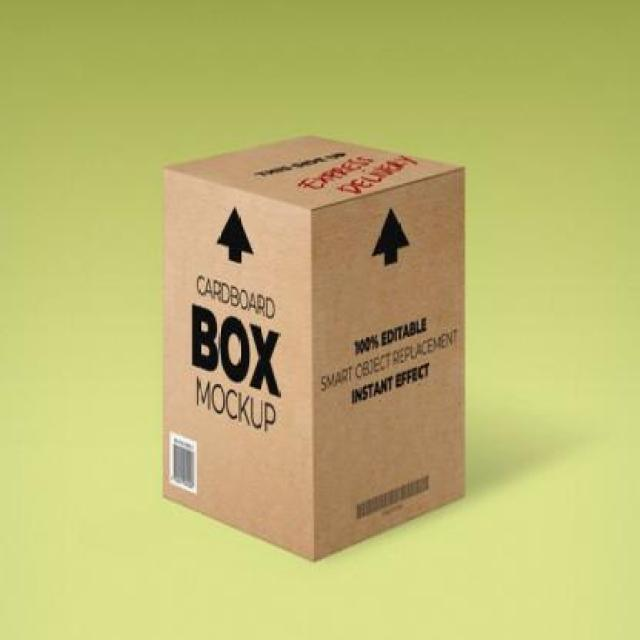box: (148, 116, 494, 571)
